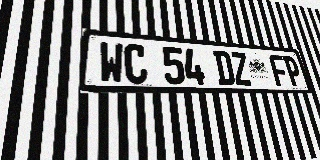4: (182, 48, 206, 85)
5: (162, 46, 186, 85)
C: (124, 43, 148, 84)
D: (212, 50, 236, 86)
F: (268, 54, 290, 86)
P: (282, 55, 304, 87)
W: (99, 41, 124, 84)
Z: (229, 51, 252, 86)
